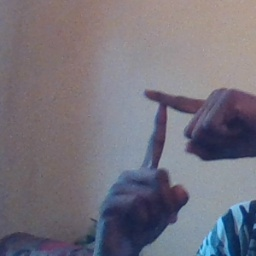T: (117, 77, 216, 190)
